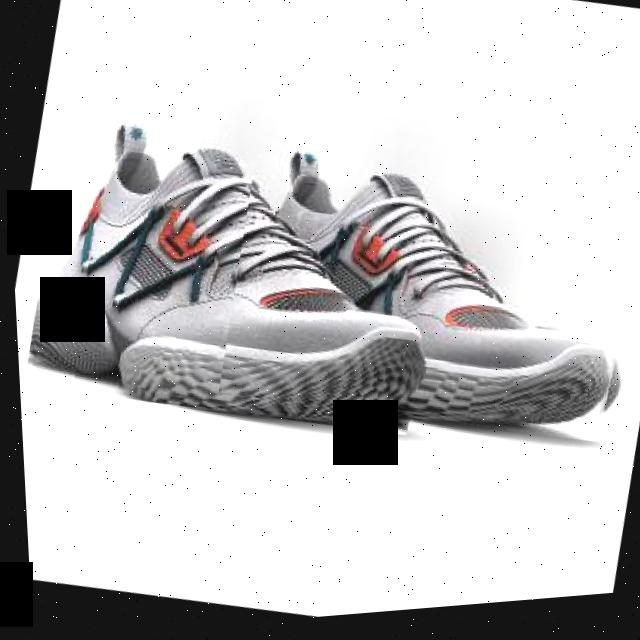shoe: (8, 91, 477, 470), (204, 123, 640, 478)
